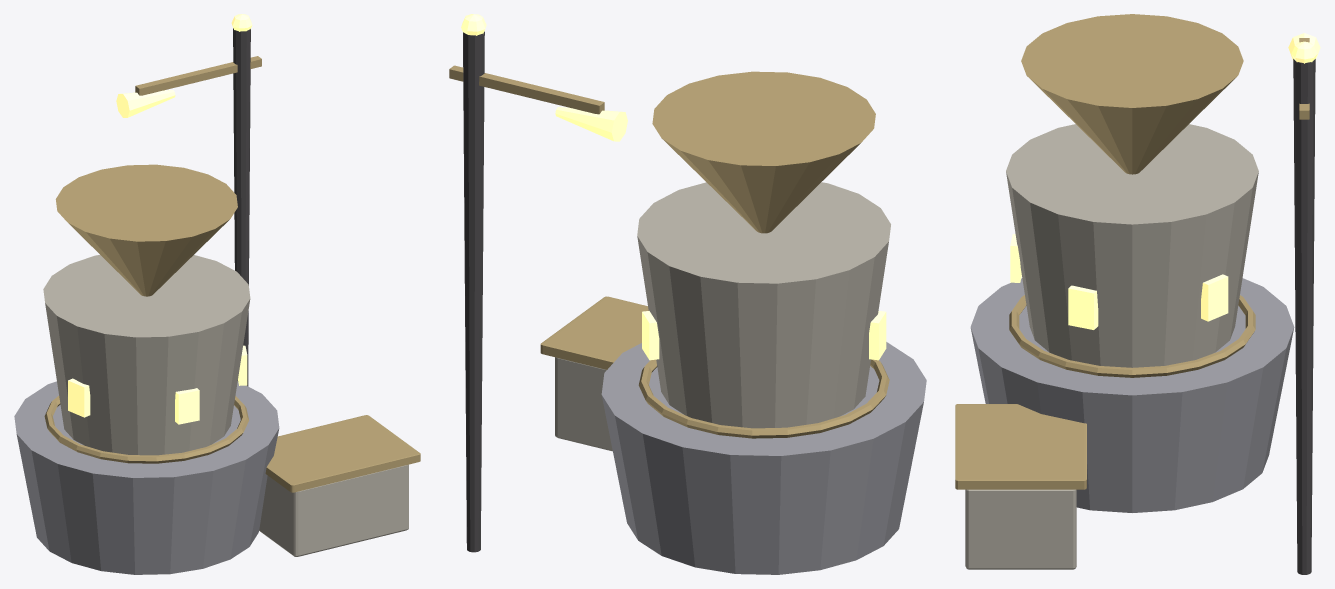
The model's file is hq_aurelia.glb.
The picture shows the model from 3 angles, left to right: view 1: azimuth 30°, elevation 25°; view 2: azimuth 150°, elevation 25°; view 3: azimuth 270°, elevation 25°; orthographic projection. The views are drawn at different scales.
Parts seen in each view (by area): view 1: HA_Tower, HA_Base, HA_Cone, HA_Shed, HA_ShedRoof, HA_Mast, HA_Band, HA_MastArm, HA_Sock, HA_Porthole.002, HA_Porthole.003; view 2: HA_Tower, HA_Base, HA_Cone, HA_Mast, HA_ShedRoof, HA_Shed, HA_Band, HA_MastArm, HA_Sock, HA_Porthole.003, HA_Porthole; view 3: HA_Tower, HA_Base, HA_Cone, HA_ShedRoof, HA_Mast, HA_Shed, HA_Band, HA_Porthole.001, HA_Porthole.
Part boxes in pixels (x1=…): HA_Tower: x1=43, y1=255, x2=250, y2=455; HA_Base: x1=14, y1=381, x2=279, y2=574; HA_Cone: x1=55, y1=164, x2=237, y2=296; HA_Shed: x1=259, y1=464, x2=408, y2=556; HA_ShedRoof: x1=265, y1=415, x2=420, y2=492; HA_Mast: x1=233, y1=28, x2=250, y2=386; HA_Band: x1=44, y1=396, x2=248, y2=463; HA_MastArm: x1=135, y1=56, x2=261, y2=95; HA_Sock: x1=116, y1=90, x2=175, y2=117; HA_Porthole.002: x1=175, y1=388, x2=199, y2=424; HA_Porthole.003: x1=68, y1=378, x2=90, y2=417; HA_Tower: x1=637, y1=182, x2=890, y2=428; HA_Base: x1=601, y1=342, x2=926, y2=574; HA_Cone: x1=652, y1=71, x2=875, y2=233; HA_Mast: x1=463, y1=31, x2=484, y2=552; HA_ShedRoof: x1=540, y1=296, x2=648, y2=369; HA_Shed: x1=555, y1=357, x2=612, y2=451; HA_Band: x1=638, y1=359, x2=889, y2=438; HA_MastArm: x1=449, y1=65, x2=604, y2=114; HA_Sock: x1=555, y1=107, x2=627, y2=141; HA_Porthole.003: x1=869, y1=311, x2=886, y2=360; HA_Porthole: x1=642, y1=311, x2=659, y2=360; HA_Tower: x1=1006, y1=124, x2=1258, y2=367; HA_Base: x1=970, y1=278, x2=1294, y2=512; HA_Cone: x1=1021, y1=14, x2=1243, y2=174; HA_ShedRoof: x1=955, y1=404, x2=1086, y2=489; HA_Mast: x1=1293, y1=59, x2=1315, y2=574; HA_Shed: x1=965, y1=489, x2=1076, y2=569; HA_Band: x1=1009, y1=295, x2=1255, y2=377; HA_Porthole.001: x1=1068, y1=285, x2=1098, y2=329; HA_Porthole: x1=1201, y1=274, x2=1228, y2=321.
Bounding box in the file's own units: 4.4 × 5.78 × 3.61.
